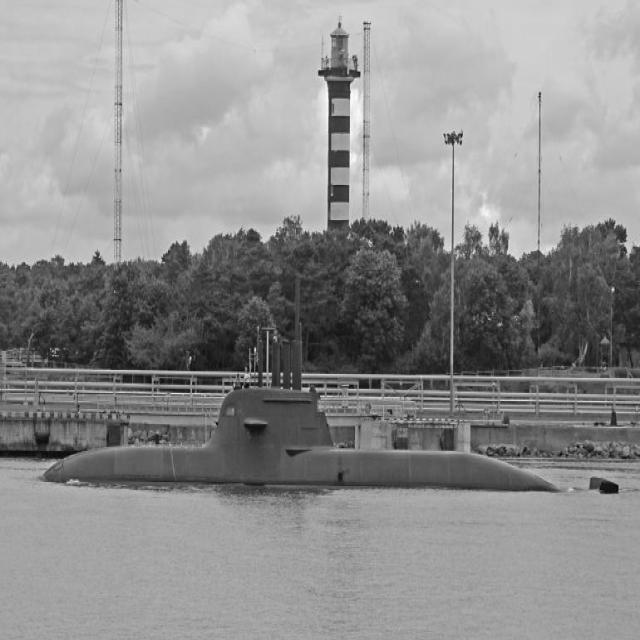submarine: (43, 272, 623, 486)
